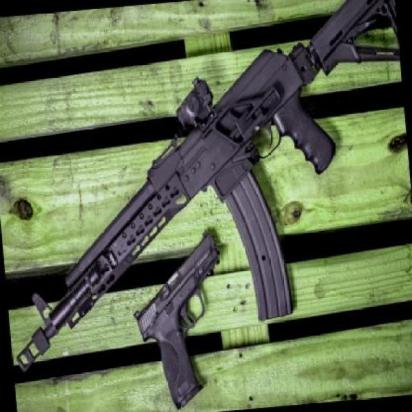Gun: (0, 0, 412, 388)
